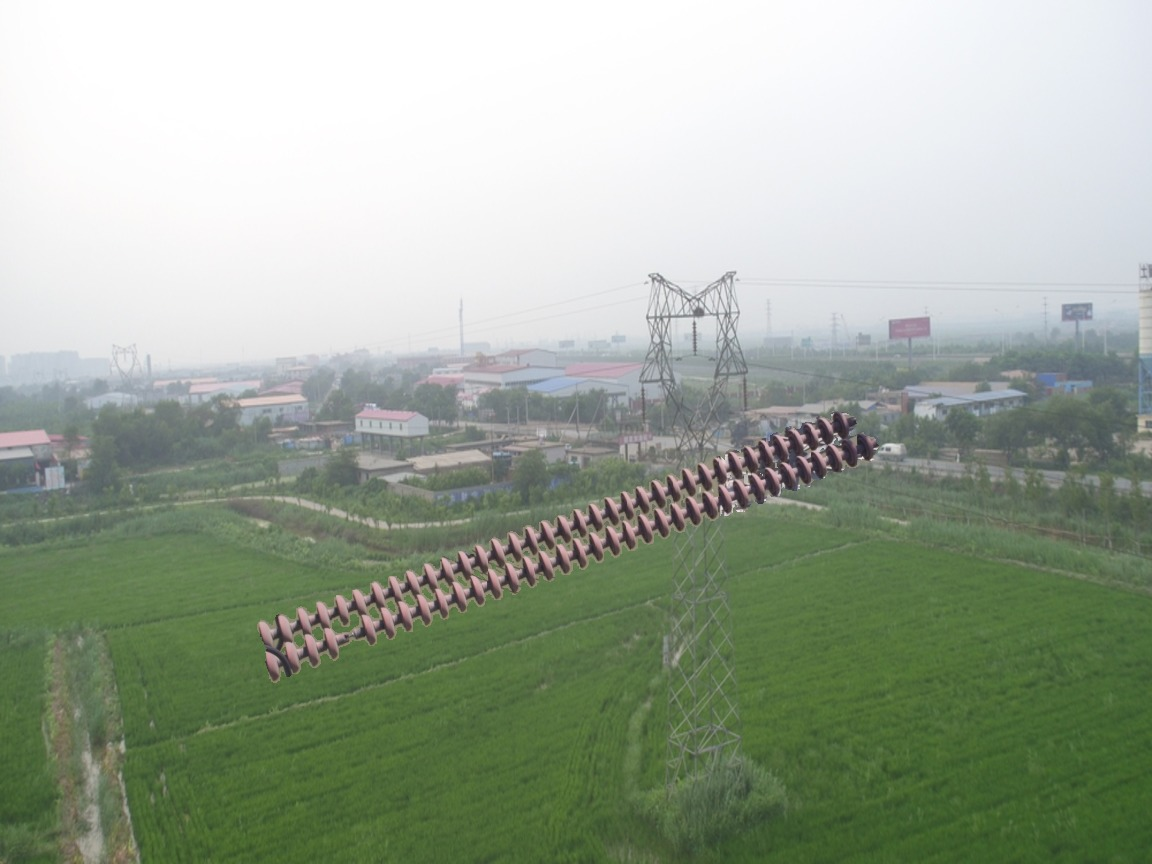defect: (316, 608, 380, 660)
